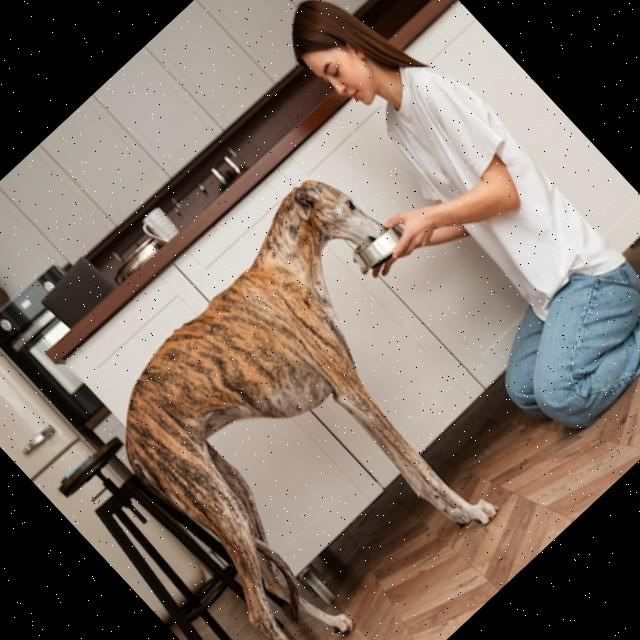Dog: (54, 159, 591, 640)
Person: (198, 0, 640, 468)
